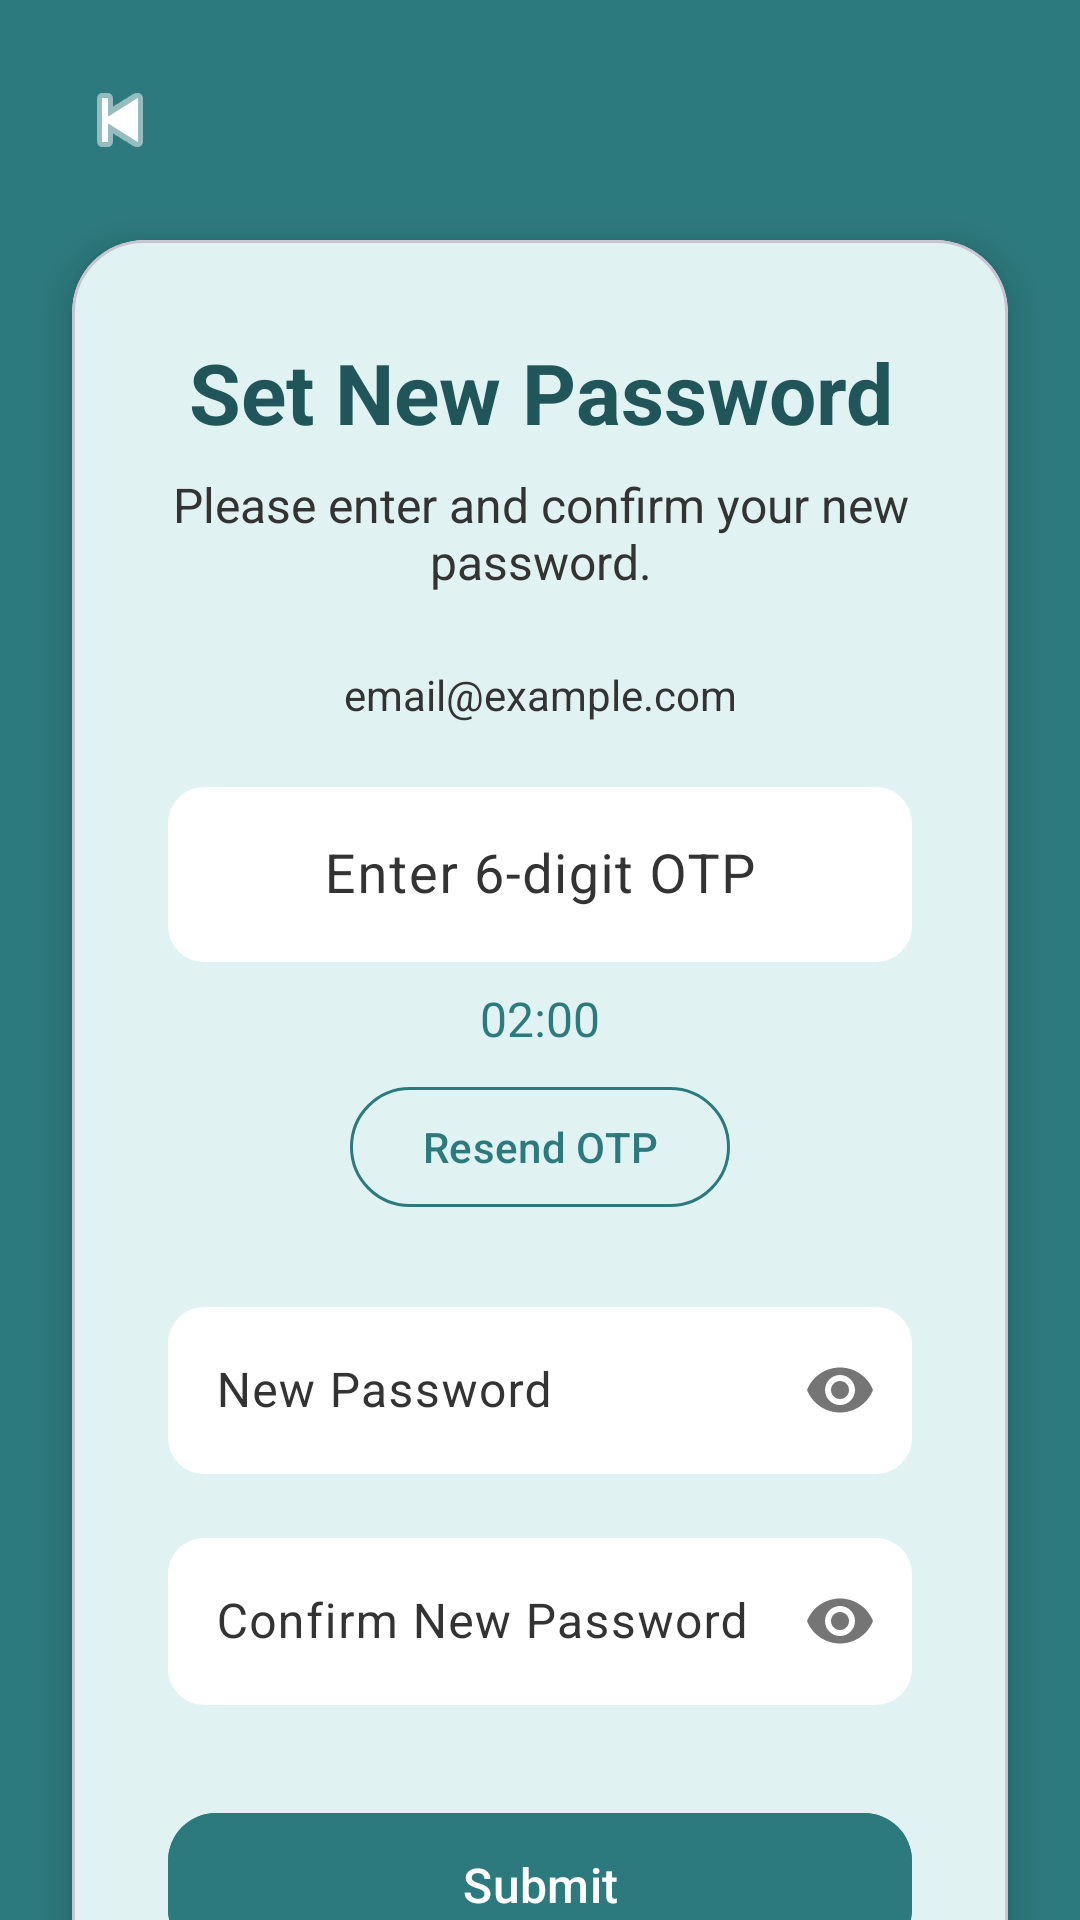

Screen size 1080px×1920px. Icon name, then its box in pixels as bbox(x1, y1, x2, y2):
Back: bbox(97, 93, 143, 147)
